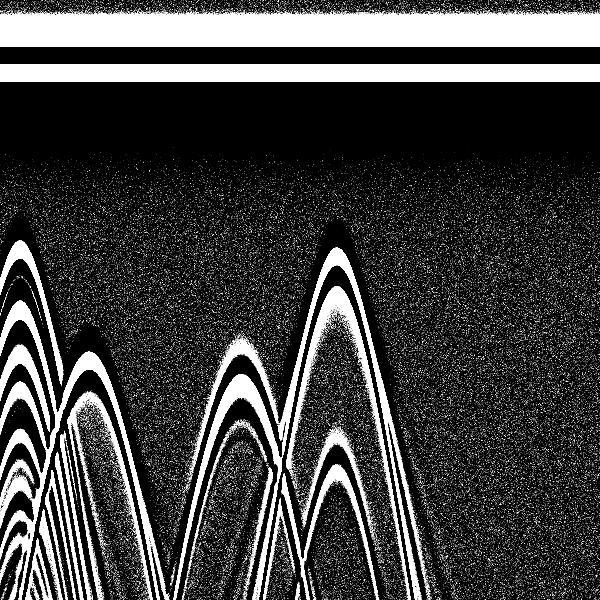pipe: (198, 5, 278, 434), (47, 5, 129, 422), (287, 4, 385, 334), (1, 8, 64, 329)
